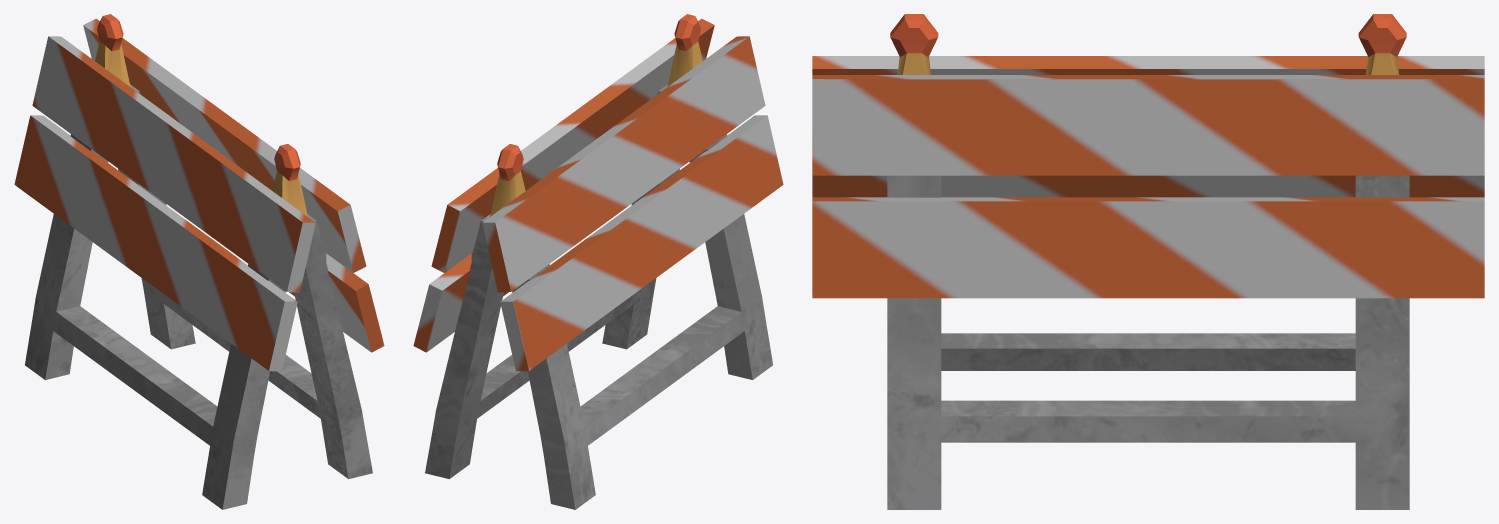
The model's file is Obstacle_fence_2.fbx.
3 views of the same model, side by side, from view 1: azimuth 30°, elevation 25°; view 2: azimuth 150°, elevation 25°; view 3: azimuth 270°, elevation 25° (orthographic). The views are drawn at different scales.
Parts seen in each view (by area): view 1: Obstacle_fence_2; view 2: Obstacle_fence_2; view 3: Obstacle_fence_2.
Part boxes in pixels (left/top/right/bottom): Obstacle_fence_2: left=14, top=14, right=384, bottom=509; Obstacle_fence_2: left=413, top=14, right=783, bottom=509; Obstacle_fence_2: left=812, top=14, right=1484, bottom=509.
Bounding box in the file's own units: 67.6 × 145 × 198.
